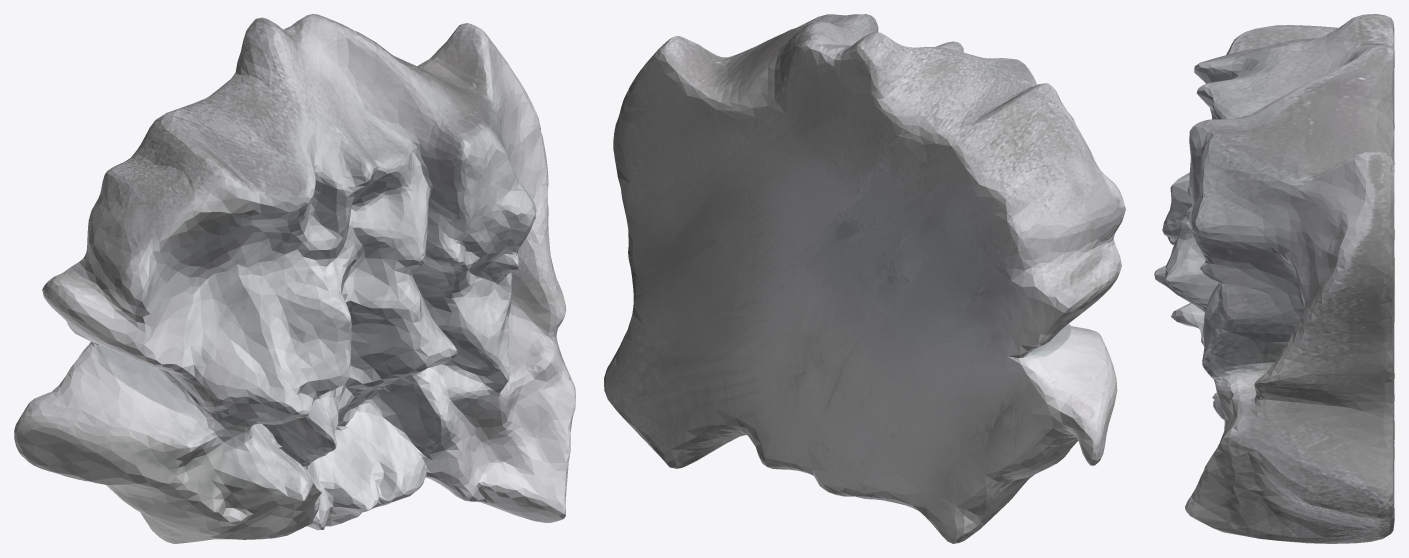
3 renders of one model, left to right at view 1: azimuth 30°, elevation 25°; view 2: azimuth 150°, elevation 25°; view 3: azimuth 270°, elevation 25°, orthographic. The views are drawn at different scales.
Size of the model in its own units: 0.07 by 0.065 by 0.032.
Materials: 1 (1 with a texture image).
